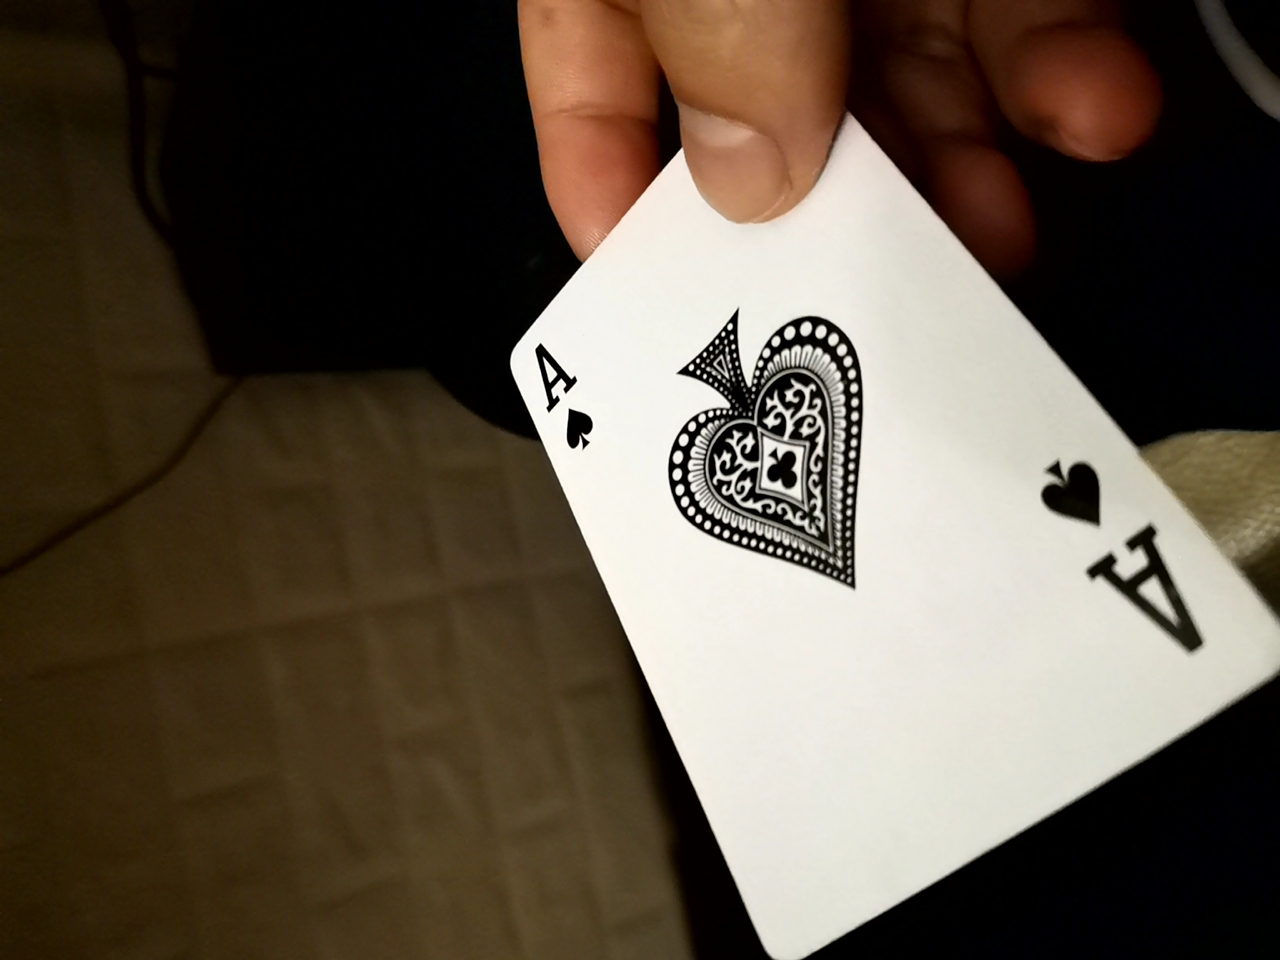ht a: (468, 91, 1227, 944)
